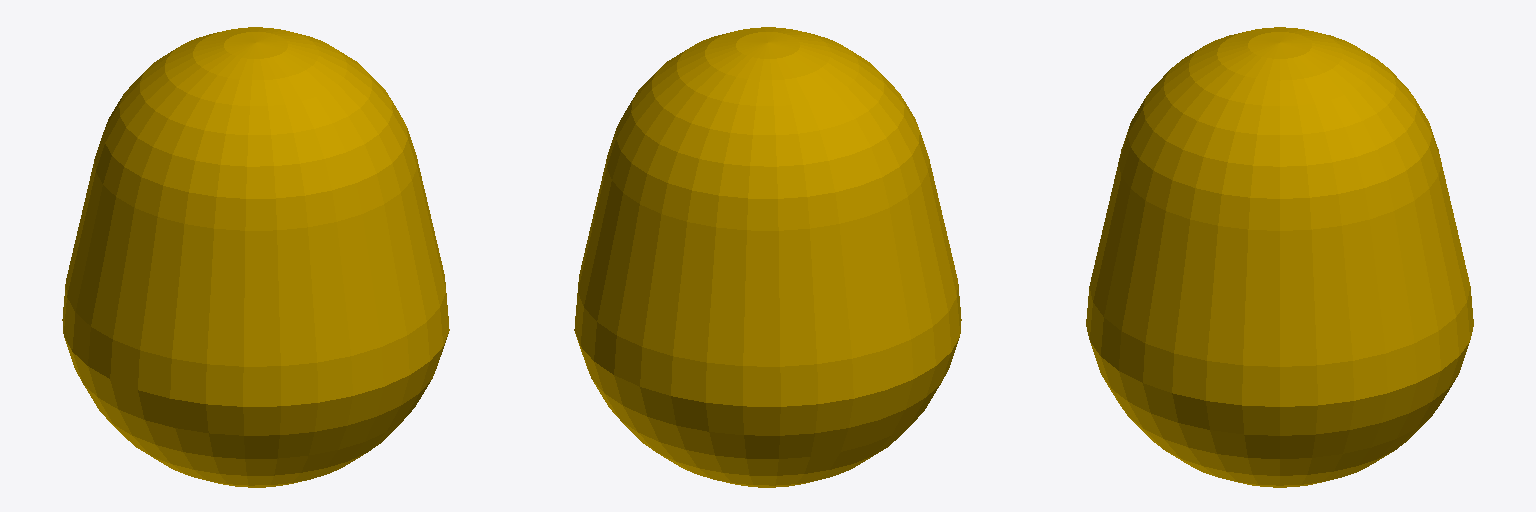
Rendered from Egg.obj.
3 views of the same model, side by side, from view 1: azimuth 30°, elevation 25°; view 2: azimuth 150°, elevation 25°; view 3: azimuth 270°, elevation 25° (orthographic).
Bounding box in the file's own units: 1.96 × 2.38 × 1.96.